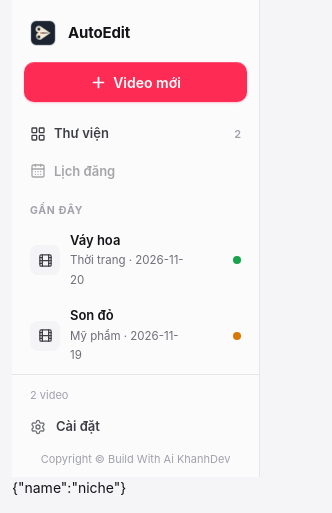
Test case: lists projects, counts them and navigates on click
The image size is (332, 513).
Expected: the text "Váy hoa" is shown, [70, 232, 120, 248]
Expected: the text "2 video" is shown, [30, 387, 68, 403]
Click the text "Son đỏ": (92, 315) [70, 307, 114, 323]
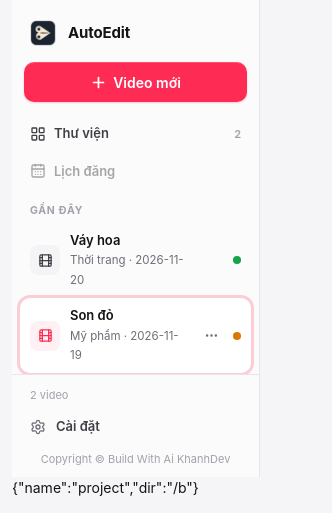
Expected: the text with test id "route" shows "\"project\"", [12, 479, 199, 496]
Expected: the text with test id "route" shows "/b", [12, 479, 199, 496]
